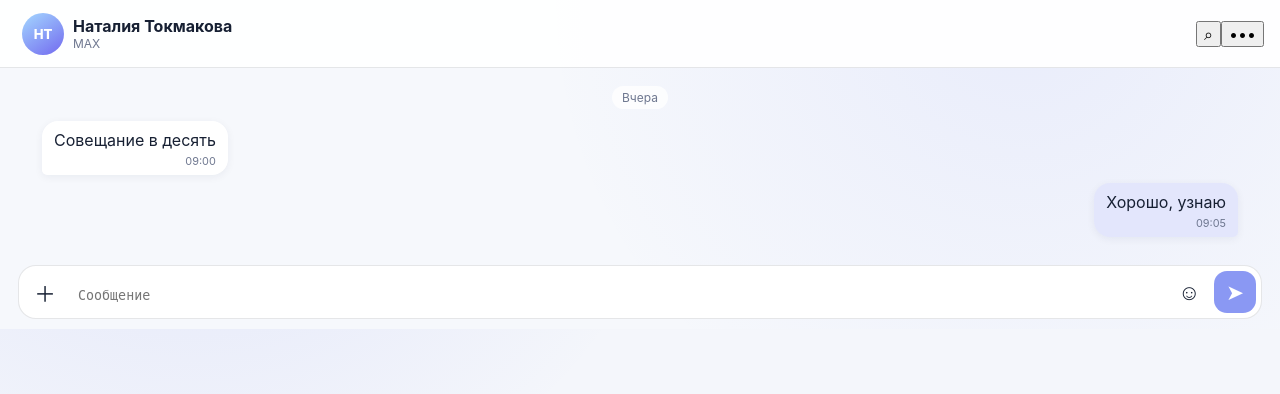
message search › forgets the query, so reopening starts clean
Step 1. Click the button named "Поиск сообщений" → (1208, 34), box [1196,20,1221,46]
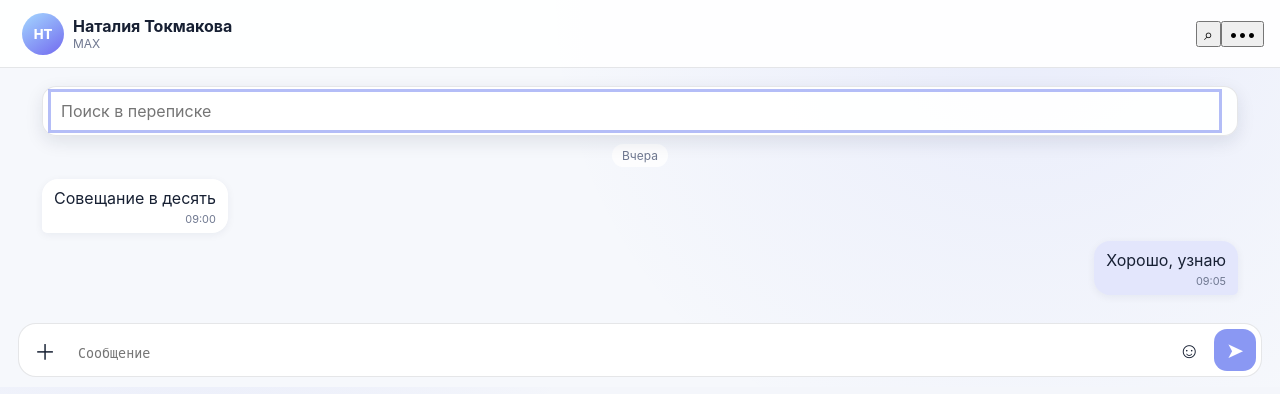
Step 2. Type "совещание" into the search field → (635, 111), box [53,94,1217,128]
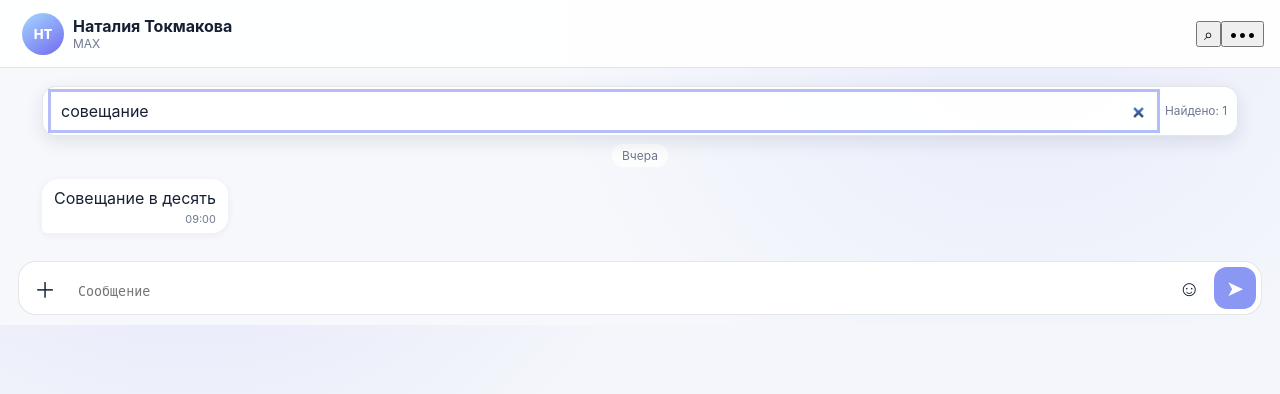
Step 3. Click the element with test id "message-search-backdrop" → (640, 160), box [0,68,1279,251]
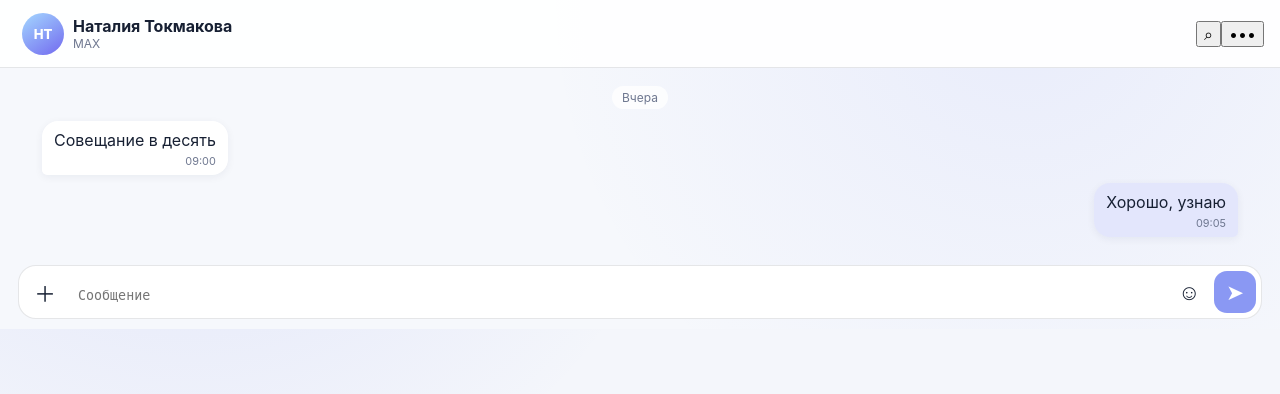
Step 4. Click the button named "Поиск сообщений" → (1208, 34), box [1196,20,1221,46]
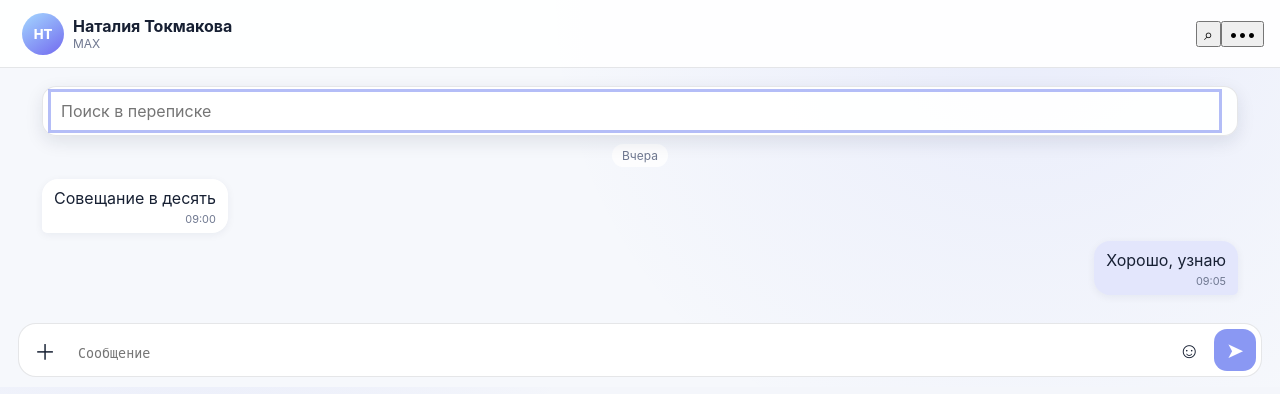
Check: the text "Хорошо, узнаю" is shown, box [1106,250,1226,270]
Check: the search field is empty, box [53,94,1217,128]
